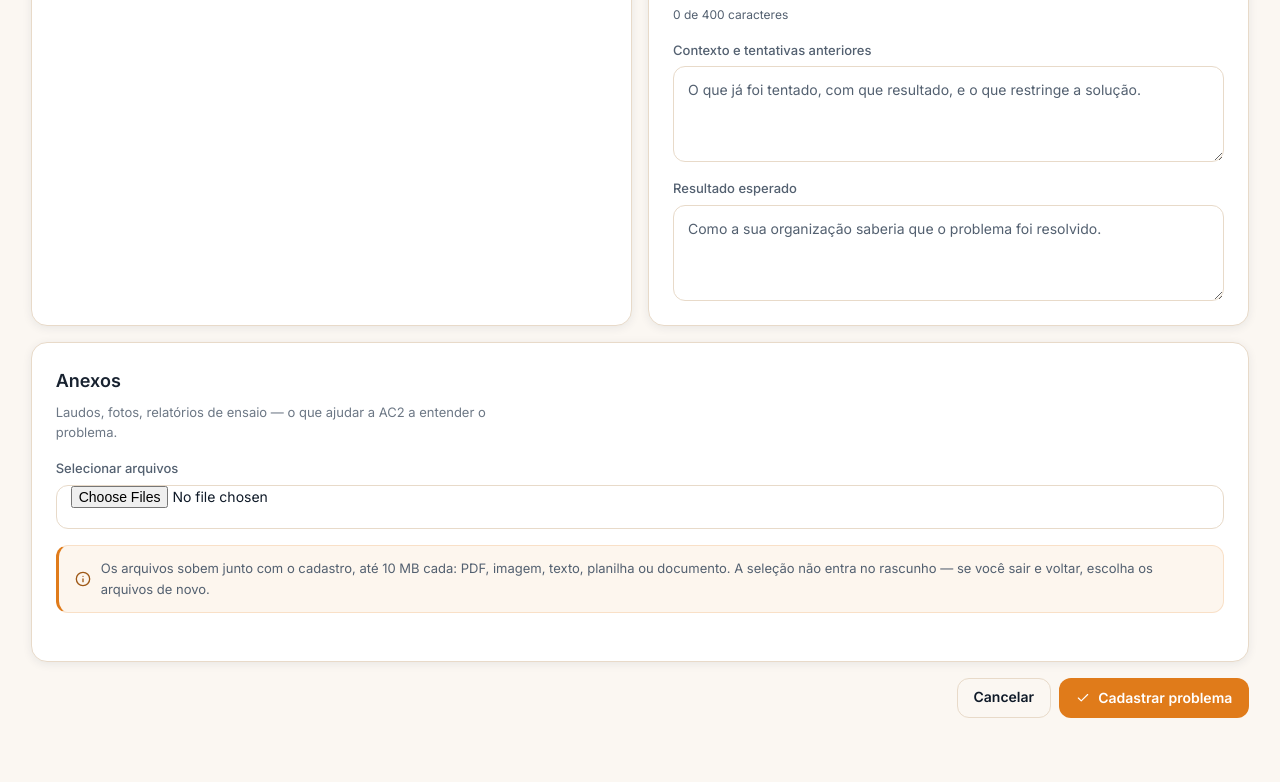
Test: ProblemaFormPage — rascunho e guarda de saída › sai direto quando não há nada digitado
(page scrolled)
Step 1. Click the link "Cancelar" → (1004, 698), box [956,678,1051,718]
(page scrolled)
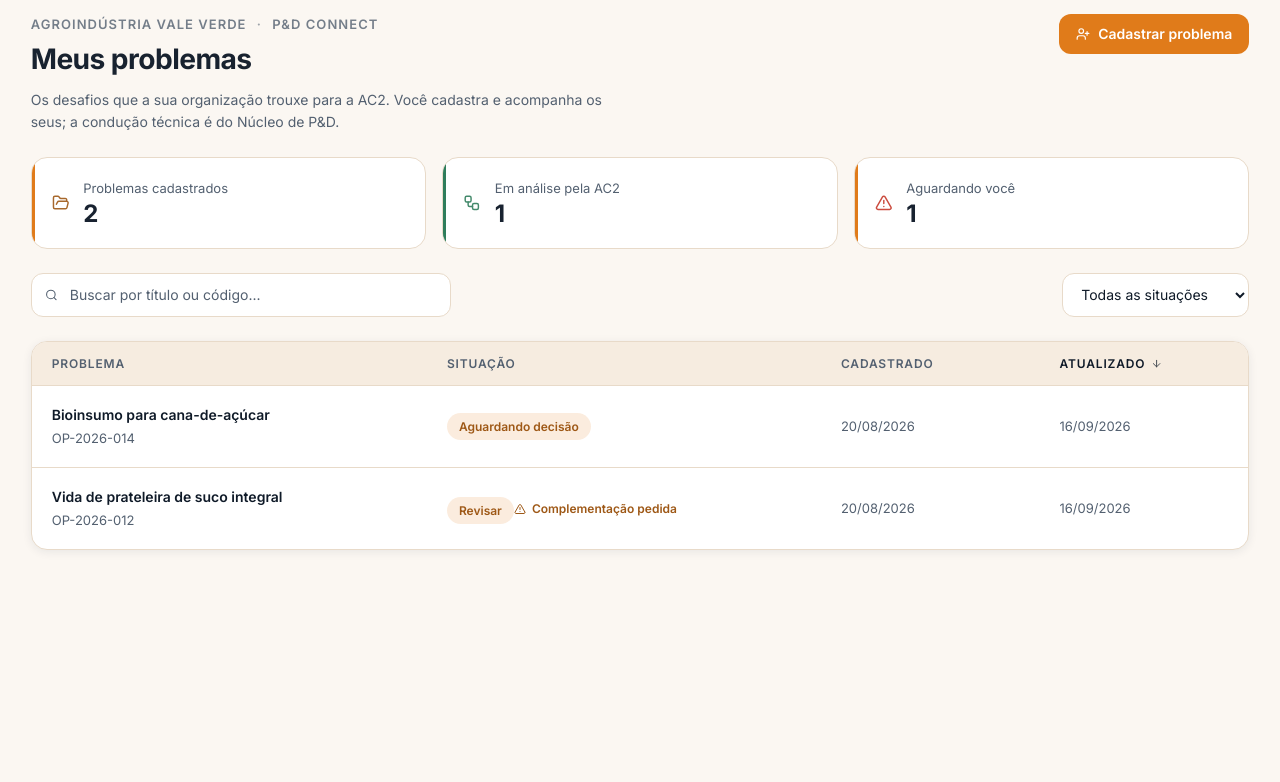
expect the heading "Meus problemas" is shown: met, box [31,42,252,76]
